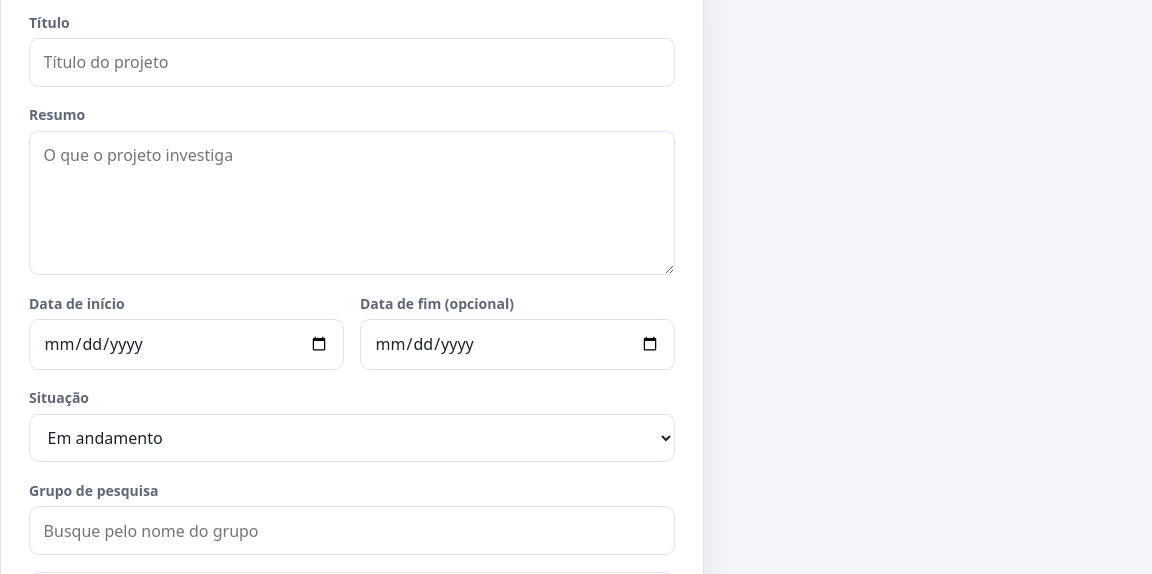
Test: Tela de cadastro de projeto › mostra a mensagem de erro devolvida pelo backend
This screenshot has width=1152, height=574.
In the field labelled "Título": (352, 62) [29, 38, 675, 87], type "Inteligência artificial aplicada ao Agreste"
In the text box labelled "Resumo": (352, 203) [29, 131, 675, 275], type "Estuda a aplicação de aprendizado de máquina..."
In the date field labelled "Data de início": (186, 344) [29, 319, 344, 370], type "2024-03-01"
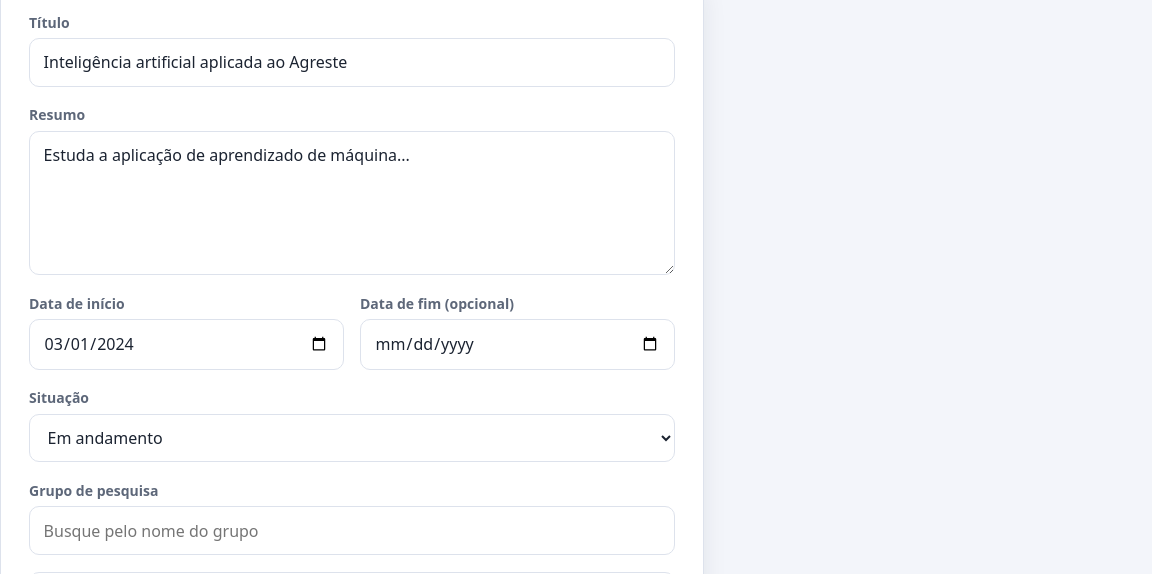
Select "Em andamento" in the dropdown labelled "Situação": (352, 438) [29, 414, 675, 462]
(page scrolled)
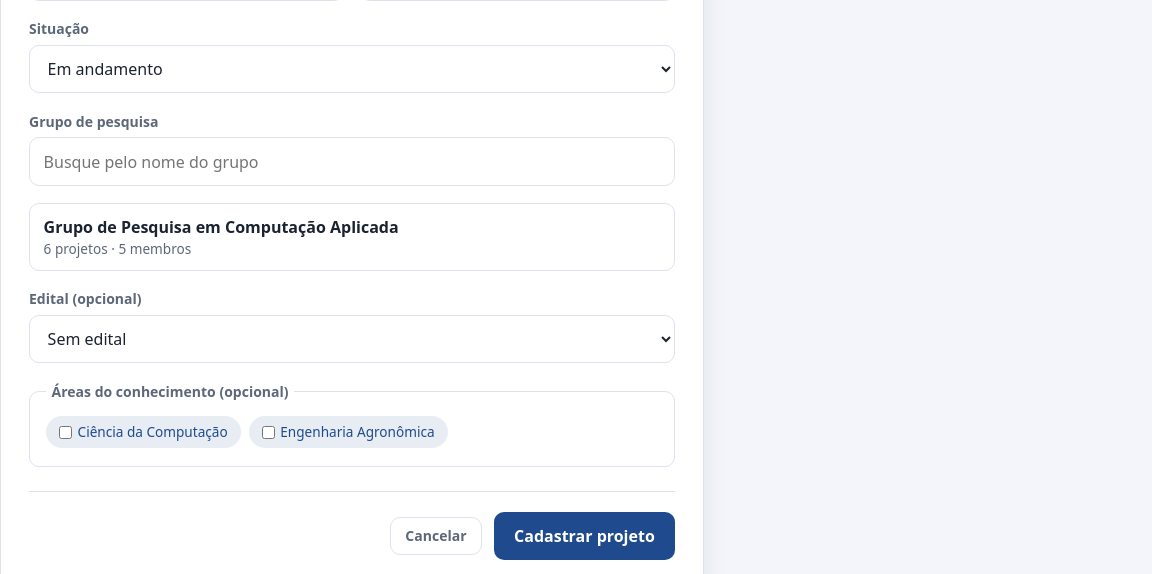
Click the button "Grupo de Pesquisa em Computação Aplicada": (352, 237) [30, 204, 674, 270]
(page scrolled)
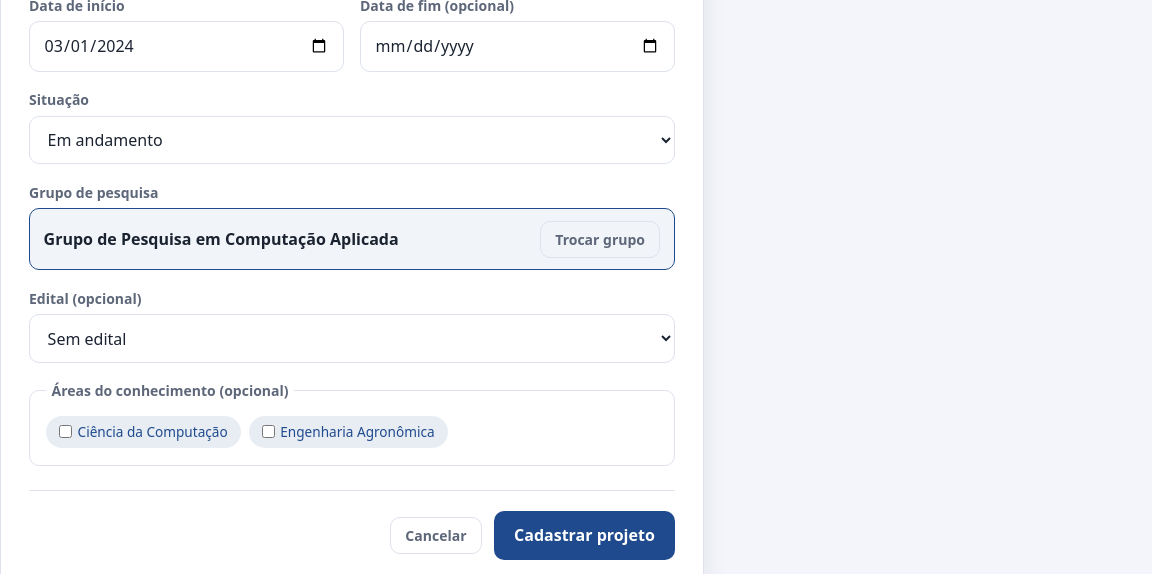
Click the checkbox labelled "Ciência da Computação": (66, 432) [59, 425, 72, 438]
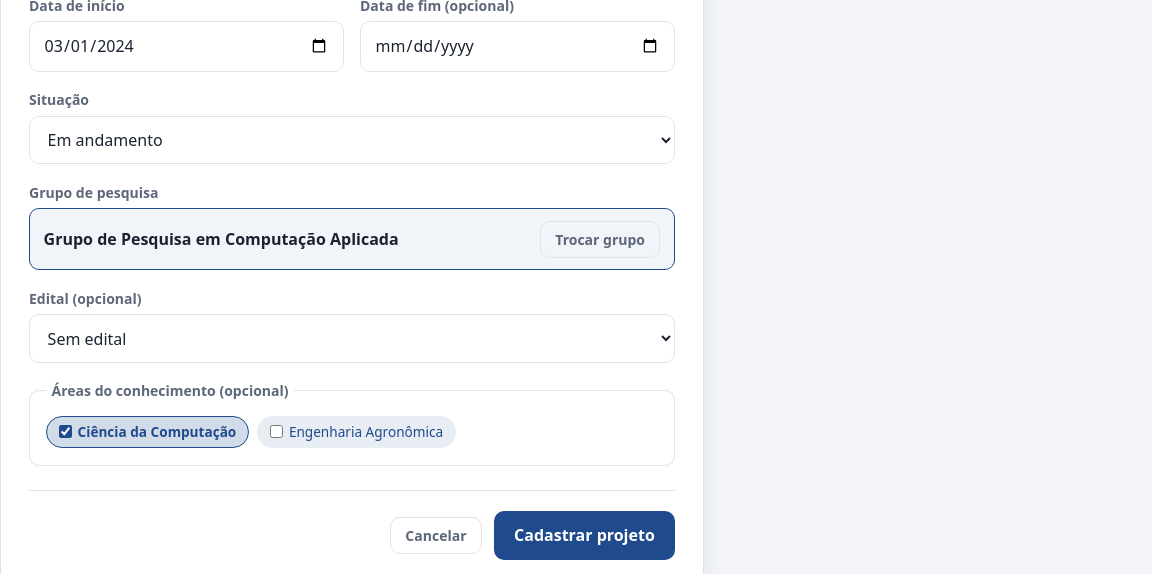
Click the checkbox labelled "Engenharia Agronômica": (277, 432) [270, 425, 283, 438]
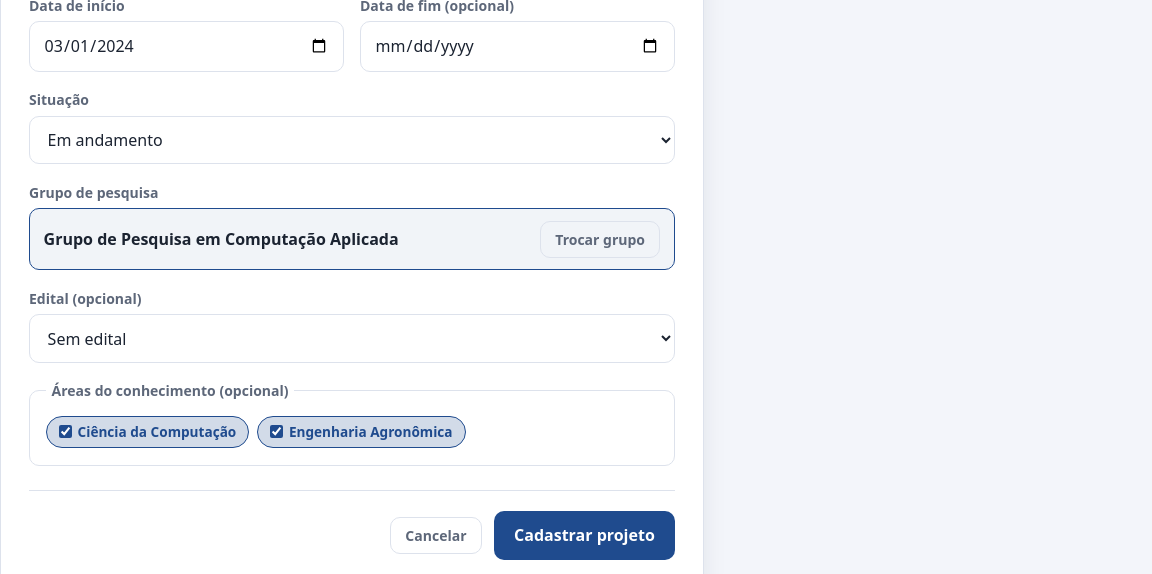
Click the button "Cadastrar projeto": (584, 536) [494, 511, 675, 560]
(page scrolled)
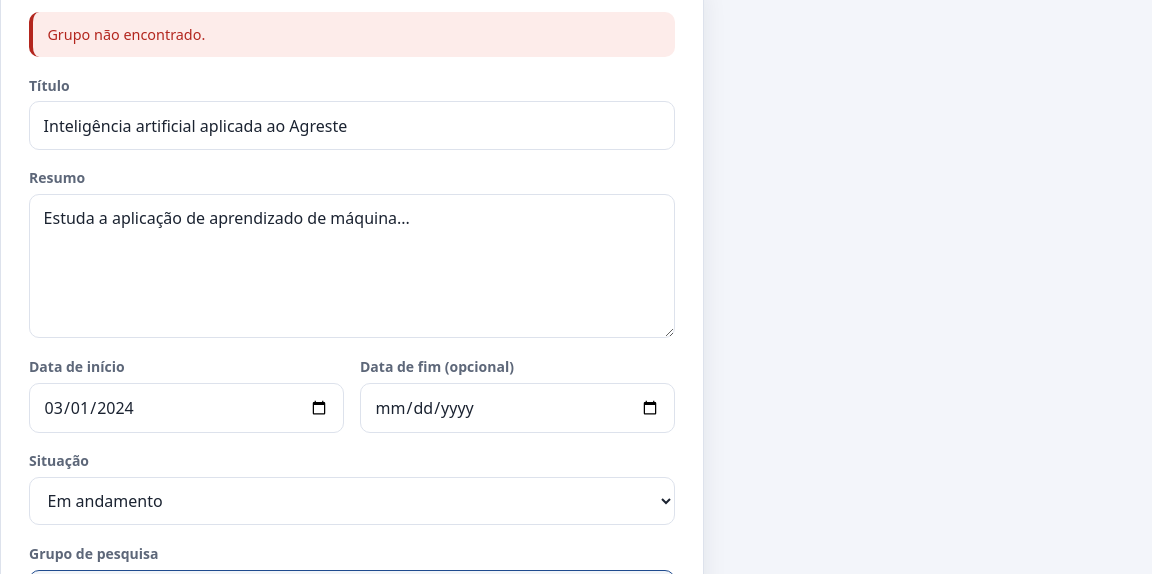
Check: the text "Grupo não encontrado." is shown, box [29, 12, 675, 57]
